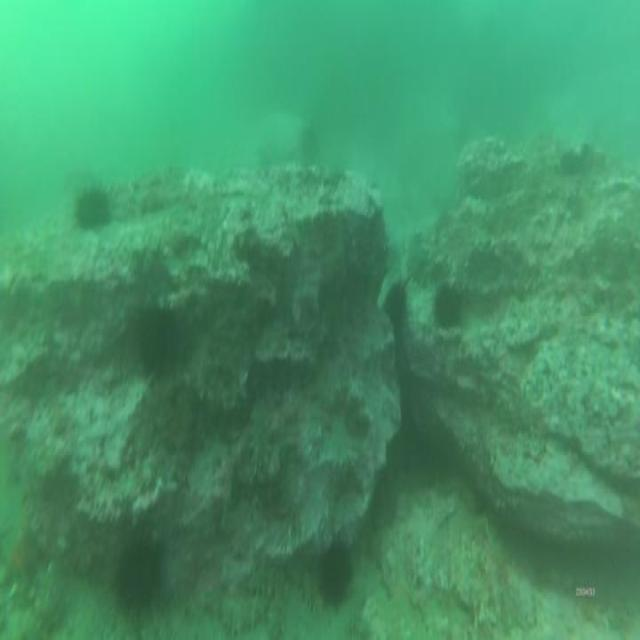echinus: (114, 542, 161, 612), (136, 308, 180, 372), (317, 545, 351, 610), (75, 188, 110, 226), (434, 286, 460, 330), (386, 283, 408, 322)
starfish: (2, 518, 38, 590)
